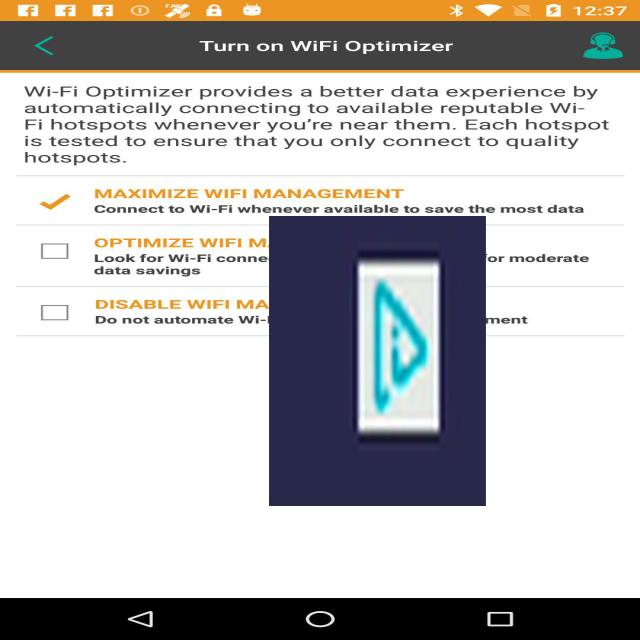sneaking: (269, 216, 486, 506)
